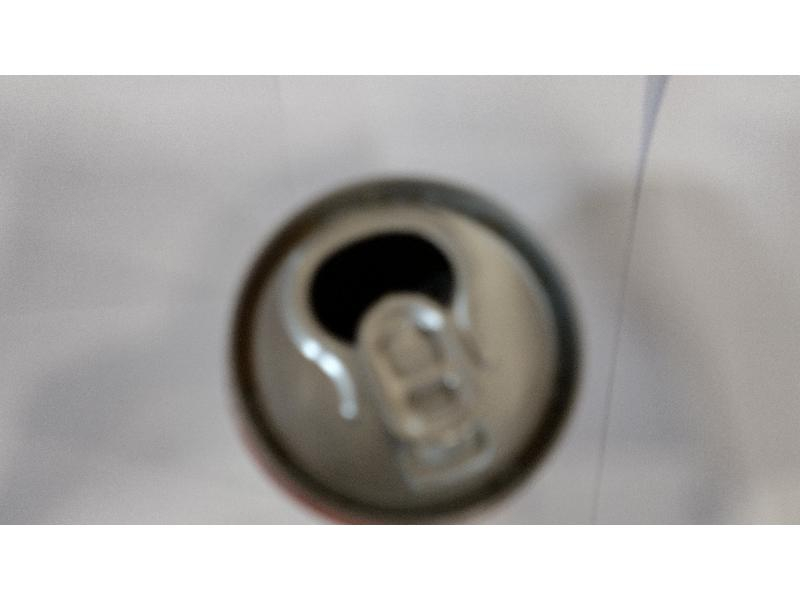can: (224, 177, 581, 522)
